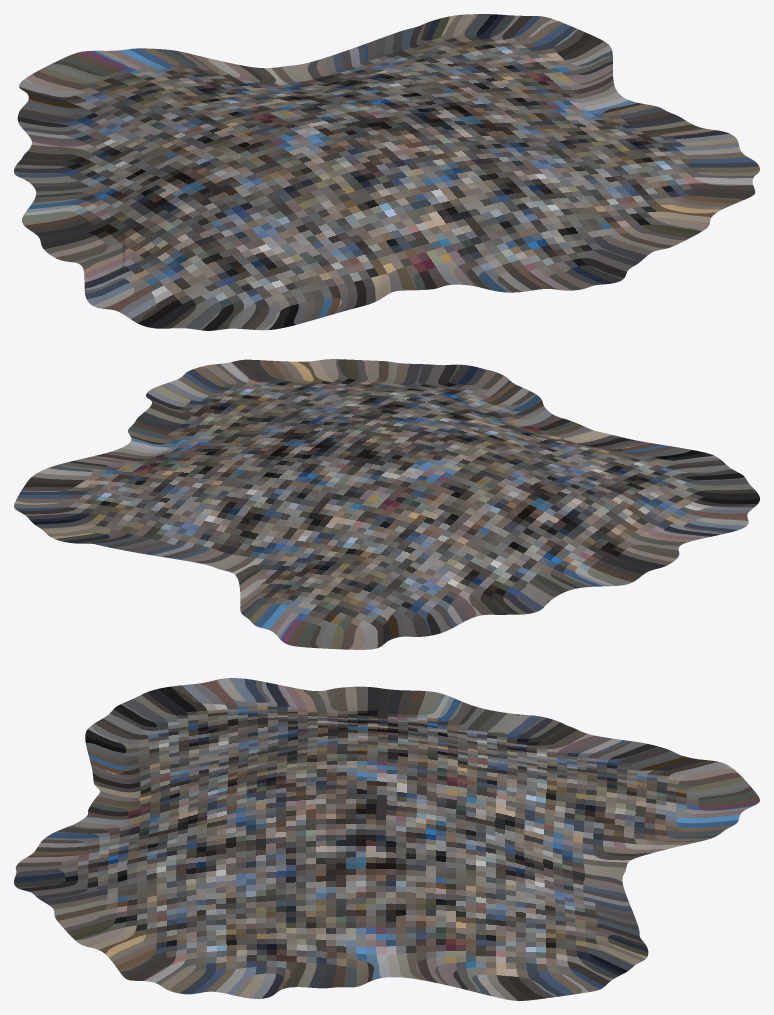
File: Trash_Pile_A.FBX
The picture shows the model from 3 angles, top to bottom: view 1: azimuth 30°, elevation 25°; view 2: azimuth 150°, elevation 25°; view 3: azimuth 270°, elevation 25°; orthographic projection. The views are drawn at different scales.
Parts seen in each view (by area): view 1: Geometry_Trash_Pile_A_LOD00; view 2: Geometry_Trash_Pile_A_LOD00; view 3: Geometry_Trash_Pile_A_LOD00.
Boxes of the visible parts, box(x1,y1,x2,y2) form: Geometry_Trash_Pile_A_LOD00: box(14, 14, 759, 330); Geometry_Trash_Pile_A_LOD00: box(14, 359, 759, 649); Geometry_Trash_Pile_A_LOD00: box(14, 678, 759, 1000).
Size of what is drawn, in the model's own units: 2633 by 184 by 2575.
